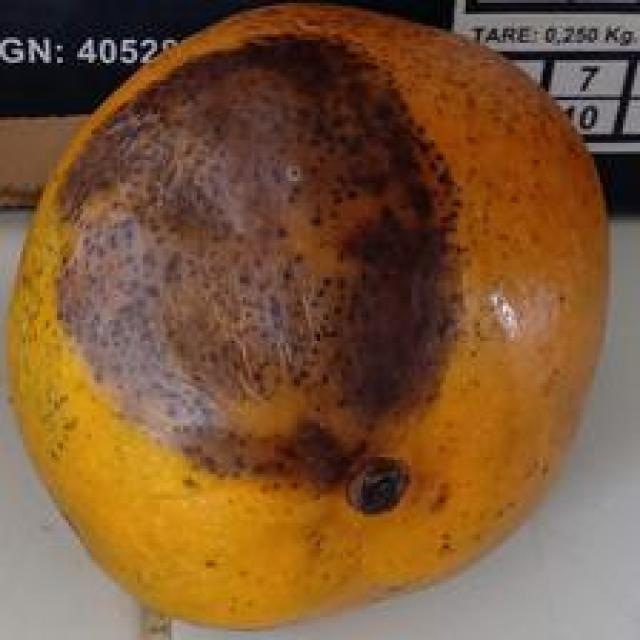Bad_Mango: (9, 5, 604, 627)
